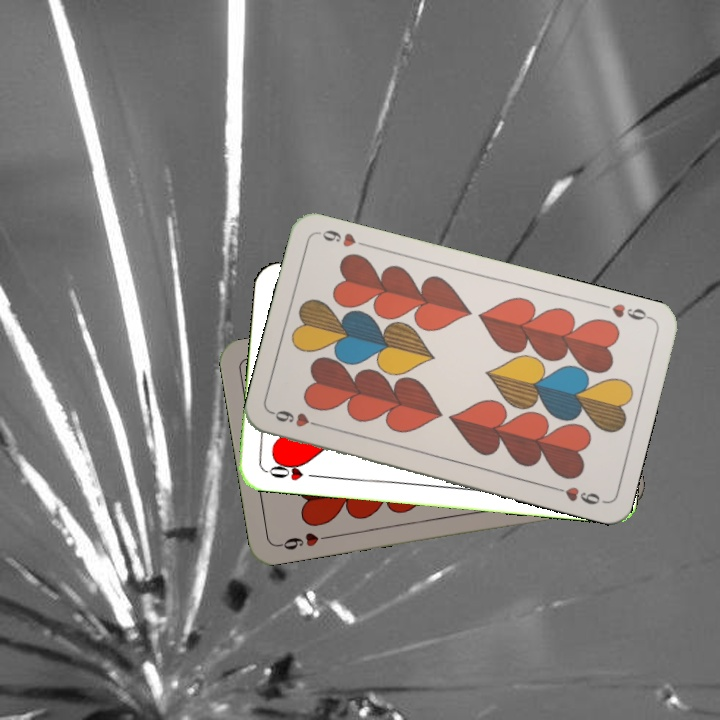H9: (274, 528, 333, 553), (268, 406, 326, 430), (596, 299, 654, 323)
HO: (262, 456, 321, 484)
